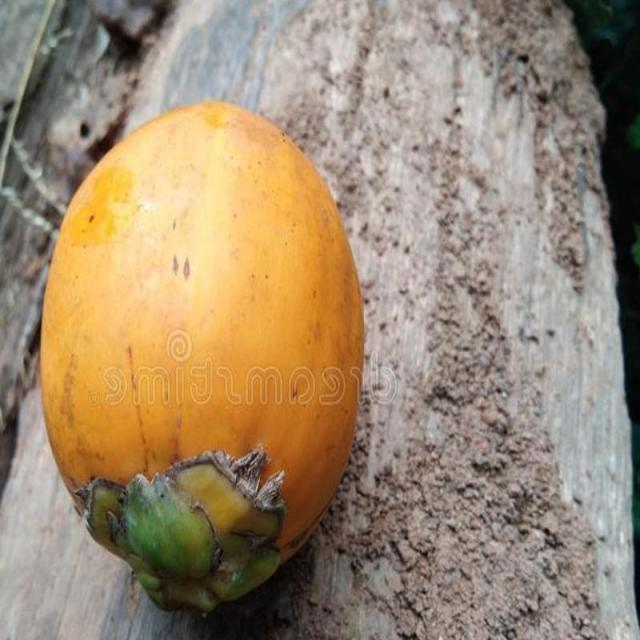good: (38, 101, 366, 618)
